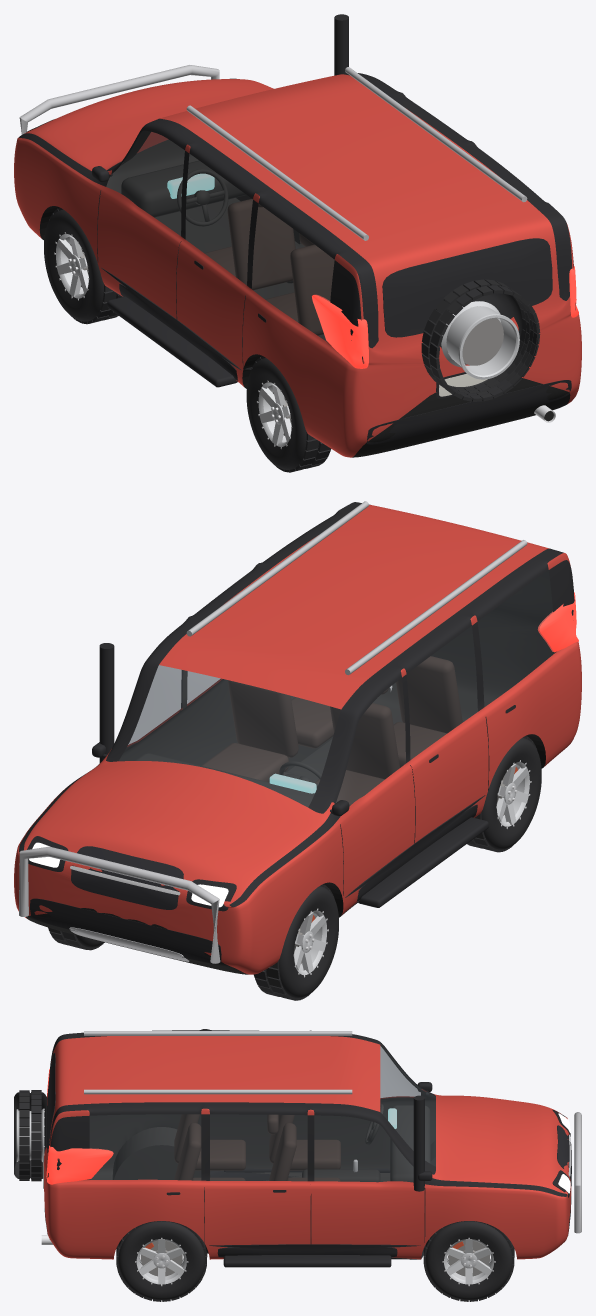
File: RidgebackSUV.glb
The picture shows the model from 3 angles, top to bottom: view 1: azimuth 30°, elevation 25°; view 2: azimuth 150°, elevation 25°; view 3: azimuth 270°, elevation 25°; orthographic projection. The views are drawn at different scales.
Parts seen in each view (by area): view 1: RidgebackSUV_Body, RidgebackSUV_Glass, RidgebackSUV_Interior, RidgebackSUV_Wheel_RL, RidgebackSUV_Wheel_FL, RidgebackSUV_Lights_Tail, RidgebackSUV_Steering; view 2: RidgebackSUV_Body, RidgebackSUV_Glass, RidgebackSUV_Interior, RidgebackSUV_Wheel_FL, RidgebackSUV_Wheel_RL, RidgebackSUV_Lights_Tail, RidgebackSUV_Lights_Head; view 3: RidgebackSUV_Body, RidgebackSUV_Glass, RidgebackSUV_Interior, RidgebackSUV_Wheel_FR, RidgebackSUV_Wheel_RR, RidgebackSUV_Lights_Tail.
Boxes of the visible parts, box(x1,y1,x2,y2) form: RidgebackSUV_Body: box(14, 14, 581, 457); RidgebackSUV_Glass: box(106, 131, 334, 341); RidgebackSUV_Interior: box(106, 130, 334, 341); RidgebackSUV_Wheel_RL: box(246, 356, 330, 472); RidgebackSUV_Wheel_FL: box(44, 207, 121, 324); RidgebackSUV_Lights_Tail: box(312, 266, 578, 368); RidgebackSUV_Steering: box(177, 169, 228, 226); RidgebackSUV_Body: box(14, 501, 581, 974); RidgebackSUV_Glass: box(119, 570, 554, 816); RidgebackSUV_Interior: box(119, 570, 554, 816); RidgebackSUV_Wheel_FL: box(253, 884, 338, 1000); RidgebackSUV_Wheel_RL: box(467, 736, 541, 852); RidgebackSUV_Lights_Tail: box(538, 592, 578, 652); RidgebackSUV_Lights_Head: box(29, 842, 228, 907); RidgebackSUV_Body: box(14, 1029, 581, 1267); RidgebackSUV_Glass: box(90, 1045, 435, 1182); RidgebackSUV_Interior: box(89, 1045, 435, 1182); RidgebackSUV_Wheel_FR: box(423, 1221, 514, 1301); RidgebackSUV_Wheel_RR: box(116, 1221, 207, 1301); RidgebackSUV_Lights_Tail: box(46, 1069, 113, 1184).
Size of the model in its own units: 2.14 by 2.02 by 5.08.
